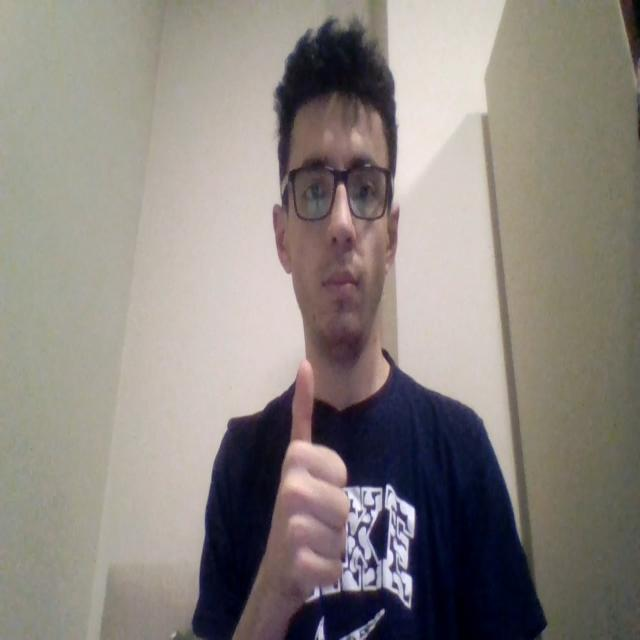help: (251, 357, 360, 603)
